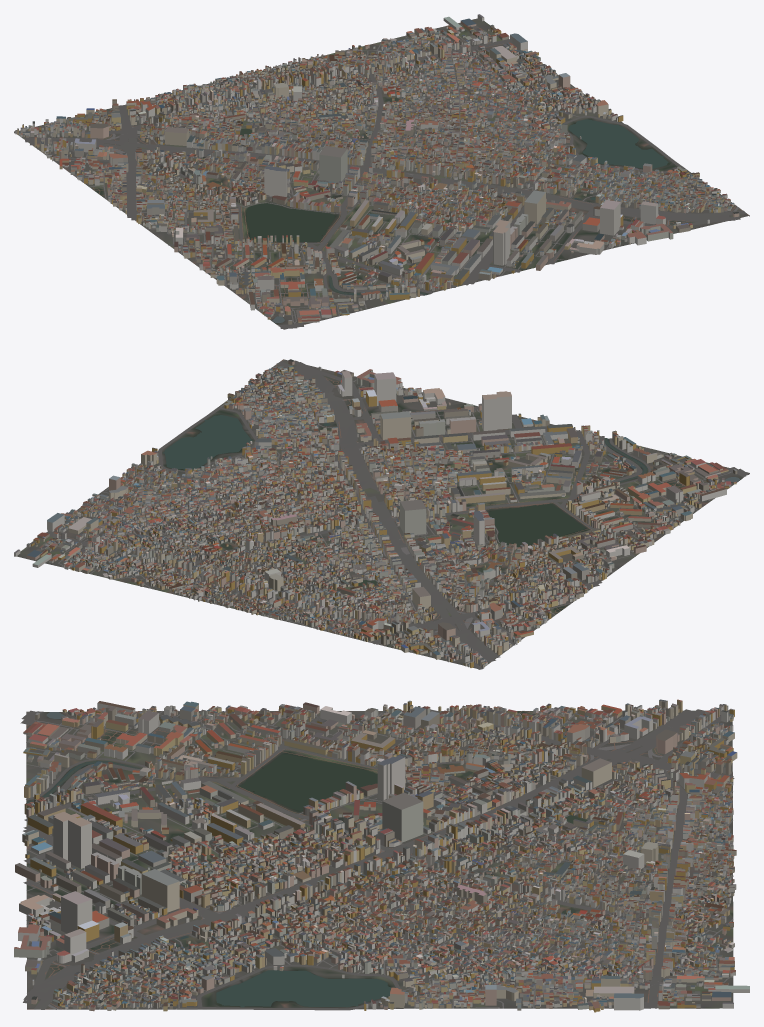
3 renders of one model, top to bottom at view 1: azimuth 30°, elevation 25°; view 2: azimuth 150°, elevation 25°; view 3: azimuth 270°, elevation 25°, orthographic. The views are drawn at different scales.
Visible parts, largest first — view 1: buildings, ground, roads, water; view 2: buildings, ground, roads, water; view 3: buildings, ground, roads, water.
Part boxes in pixels (x1,y1,x2,y2): buildings: [15, 14, 739, 324]; ground: [14, 18, 749, 329]; roads: [14, 30, 748, 328]; water: [209, 98, 668, 322]; buildings: [14, 359, 737, 668]; ground: [14, 359, 749, 668]; roads: [46, 359, 749, 669]; water: [163, 415, 740, 586]; buildings: [14, 699, 749, 1012]; ground: [26, 710, 733, 1009]; roads: [20, 709, 734, 1010]; water: [26, 712, 587, 1007].
Bounding box in the file's own units: 1432 × 97.64 × 1461.
